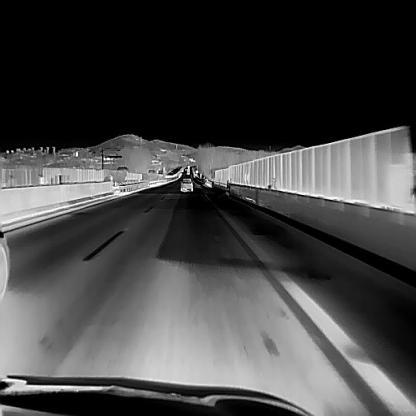car: (180, 177, 192, 191)
